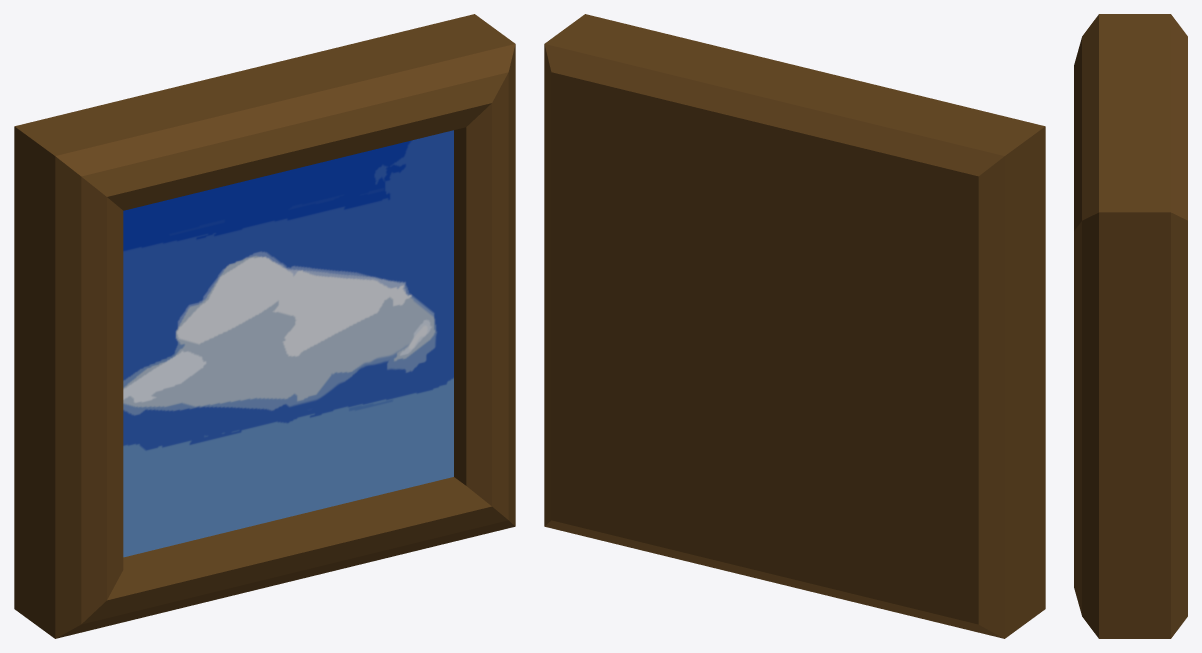
File: painting_4.glb
3 renders of one model, left to right at view 1: azimuth 30°, elevation 25°; view 2: azimuth 150°, elevation 25°; view 3: azimuth 270°, elevation 25°, orthographic. The views are drawn at different scales.
Parts seen in each view (by area): view 1: Painting Small 1; view 2: Painting Small 1; view 3: Painting Small 1.
Part boxes in pixels (x1=…): Painting Small 1: x1=14, y1=14, x2=515, y2=638; Painting Small 1: x1=544, y1=14, x2=1045, y2=638; Painting Small 1: x1=1074, y1=14, x2=1187, y2=638.
Bounding box in the file's own units: 0.2517 × 0.2523 × 0.061.
Materials: 2 (2 with a texture image).
